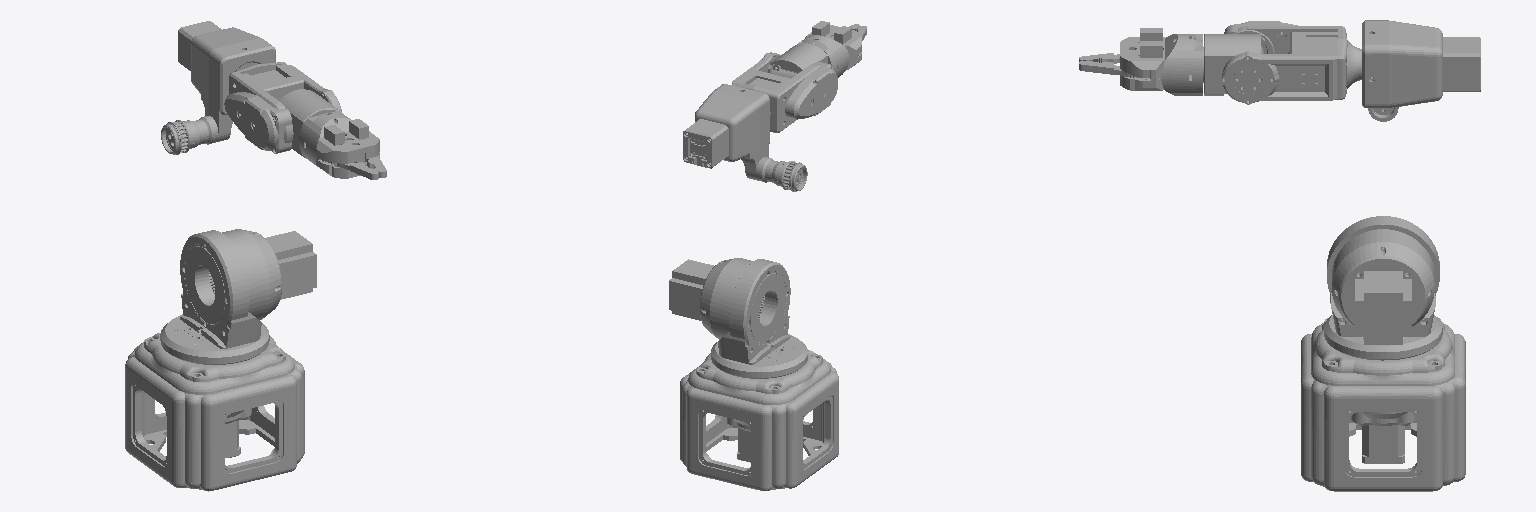
robot.urdf — kiri:
<?xml version="1.0" ?>
<!-- =================================================================================== -->
<!-- |    This document was autogenerated by xacro from [local-path]/kiri_ws/src/kiri_description/urdf/kiri.xacro | -->
<!-- |    EDITING THIS FILE BY HAND IS NOT RECOMMENDED                                 | -->
<!-- =================================================================================== -->
<robot name="kiri">
    <material name="silver">
        <color rgba="0.700 0.700 0.700 1.000" />
    </material>
    <link name="world" />
    <link name="base_link">
        <inertial>
            <origin rpy="0 0 0" xyz="-8.76585590771171e-09 4.625245772864268e-06 0.07417200620727467" />
            <mass value="0.9675774171477199" />
            <inertia ixx="0.003719" ixy="0.0" ixz="-0.0" iyy="0.00372" iyz="0.0" izz="0.004249" />
        </inertial>
        <visual>
            <origin rpy="0 0 0" xyz="0 0 0" />
            <geometry>
                <mesh filename="package://kiri_description/meshes/base_link.stl" scale="0.001 0.001 0.001" />
            </geometry>
            <material name="silver" />
        </visual>
        <collision>
            <origin rpy="0 0 0" xyz="0 0 0" />
            <geometry>
                <mesh filename="package://kiri_description/meshes/base_link.stl" scale="0.001 0.001 0.001" />
            </geometry>
        </collision>
    </link>
    <link name="link_1">
        <inertial>
            <origin rpy="0 0 0" xyz="0.027954074838879572 1.2774374489140266e-05 0.05220058358440388" />
            <mass value="5.26595321272139" />
            <inertia ixx="0.010161" ixy="-3e-06" ixz="-0.002233" iyy="0.013402" iyz="-4e-06" izz="0.010957" />
        </inertial>
        <visual>
            <origin rpy="0 0 0" xyz="-0.0 -0.0 -0.1325" />
            <geometry>
                <mesh filename="package://kiri_description/meshes/link_1_1.stl" scale="0.001 0.001 0.001" />
            </geometry>
            <material name="silver" />
        </visual>
        <collision>
            <origin rpy="0 0 0" xyz="-0.0 -0.0 -0.1325" />
            <geometry>
                <mesh filename="package://kiri_description/meshes/link_1_1.stl" scale="0.001 0.001 0.001" />
            </geometry>
        </collision>
    </link>
    <link name="link_2">
        <inertial>
            <origin rpy="0 0 0" xyz="-0.009366936381685993 6.552889280308437e-05 0.08684357826941763" />
            <mass value="4.755056928672819" />
            <inertia ixx="0.021197" ixy="4.7e-05" ixz="0.000291" iyy="0.02322" iyz="-2.2e-05" izz="0.006427" />
        </inertial>
        <visual>
            <origin rpy="0 0 0" xyz="0.01214 -3.7e-05 -0.201" />
            <geometry>
                <mesh filename="package://kiri_description/meshes/link_2_1.stl" scale="0.001 0.001 0.001" />
            </geometry>
            <material name="silver" />
        </visual>
        <collision>
            <origin rpy="0 0 0" xyz="0.01214 -3.7e-05 -0.201" />
            <geometry>
                <mesh filename="package://kiri_description/meshes/link_2_1.stl" scale="0.001 0.001 0.001" />
            </geometry>
        </collision>
    </link>
    <link name="link_3">
        <inertial>
            <origin rpy="0 0 0" xyz="0.03367813638240873 0.028072928800892603 0.04634723991153877" />
            <mass value="2.137433390159692" />
            <inertia ixx="0.003913" ixy="-0.000494" ixz="-0.000816" iyy="0.003043" iyz="-0.000544" izz="0.003902" />
        </inertial>
        <visual>
            <origin rpy="0 0 0" xyz="0.01214 -3.7e-05 -0.381" />
            <geometry>
                <mesh filename="package://kiri_description/meshes/link_3_1.stl" scale="0.001 0.001 0.001" />
            </geometry>
            <material name="silver" />
        </visual>
        <collision>
            <origin rpy="0 0 0" xyz="0.01214 -3.7e-05 -0.381" />
            <geometry>
                <mesh filename="package://kiri_description/meshes/link_3_1.stl" scale="0.001 0.001 0.001" />
            </geometry>
        </collision>
    </link>
    <link name="link_4">
        <inertial>
            <origin rpy="0 0 0" xyz="-0.005245756214767468 -0.056889563309725236 -5.6206564455152375e-05" />
            <mass value="1.9217220636356325" />
            <inertia ixx="0.002413" ixy="-0.0003" ixz="2e-06" iyy="0.001547" iyz="2e-06" izz="0.003204" />
        </inertial>
        <visual>
            <origin rpy="0 0 0" xyz="-0.02986 0.018433 -0.43675" />
            <geometry>
                <mesh filename="package://kiri_description/meshes/link_4_1.stl" scale="0.001 0.001 0.001" />
            </geometry>
            <material name="silver" />
        </visual>
        <collision>
            <origin rpy="0 0 0" xyz="-0.02986 0.018433 -0.43675" />
            <geometry>
                <mesh filename="package://kiri_description/meshes/link_4_1.stl" scale="0.001 0.001 0.001" />
            </geometry>
        </collision>
    </link>
    <link name="link_5">
        <inertial>
            <origin rpy="0 0 0" xyz="-0.02975423901507546 -0.017700782594158415 0.001500343163774176" />
            <mass value="1.2304142348959926" />
            <inertia ixx="0.000652" ixy="1.7e-05" ixz="-2e-06" iyy="0.000572" iyz="-2.5e-05" izz="0.000763" />
        </inertial>
        <visual>
            <origin rpy="0 0 0" xyz="-0.059857 0.131028 -0.436864" />
            <geometry>
                <mesh filename="package://kiri_description/meshes/link_5_1.stl" scale="0.001 0.001 0.001" />
            </geometry>
            <material name="silver" />
        </visual>
        <collision>
            <origin rpy="0 0 0" xyz="-0.059857 0.131028 -0.436864" />
            <geometry>
                <mesh filename="package://kiri_description/meshes/link_5_1.stl" scale="0.001 0.001 0.001" />
            </geometry>
        </collision>
    </link>
    <link name="link_6">
        <inertial>
            <origin rpy="0 0 0" xyz="-1.1845311122249402e-07 -0.03229549388067854 0.0018281416085541013" />
            <mass value="1.142196425861989" />
            <inertia ixx="0.00069" ixy="-0.0" ixz="0.0" iyy="0.000536" iyz="2.4e-05" izz="0.00084" />
        </inertial>
        <visual>
            <origin rpy="0 0 0" xyz="-0.030903 0.183096 -0.43675" />
            <geometry>
                <mesh filename="package://kiri_description/meshes/link_6_1.stl" scale="0.001 0.001 0.001" />
            </geometry>
            <material name="silver" />
        </visual>
        <collision>
            <origin rpy="0 0 0" xyz="-0.030903 0.183096 -0.43675" />
            <geometry>
                <mesh filename="package://kiri_description/meshes/link_6_1.stl" scale="0.001 0.001 0.001" />
            </geometry>
        </collision>
    </link>
    <link name="link_7">
        <inertial>
            <origin rpy="0 0 0" xyz="-0.004921350215667475 -0.02368454863036701 -0.0017992160930257461" />
            <mass value="0.029227804912521096" />
            <inertia ixx="7e-06" ixy="-2e-06" ixz="0.0" iyy="1e-06" iyz="0.0" izz="8e-06" />
        </inertial>
        <visual>
            <origin rpy="0 0 0" xyz="-0.045903 0.245346 -0.439385" />
            <geometry>
                <mesh filename="package://kiri_description/meshes/link_7_1.stl" scale="0.001 0.001 0.001" />
            </geometry>
            <material name="silver" />
        </visual>
        <collision>
            <origin rpy="0 0 0" xyz="-0.045903 0.245346 -0.439385" />
            <geometry>
                <mesh filename="package://kiri_description/meshes/link_7_1.stl" scale="0.001 0.001 0.001" />
            </geometry>
        </collision>
    </link>
    <link name="link_8">
        <inertial>
            <origin rpy="0 0 0" xyz="0.004921201365448383 -0.02368448005660495 -0.0017992095033099176" />
            <mass value="0.029227870763449907" />
            <inertia ixx="7e-06" ixy="2e-06" ixz="-0.0" iyy="1e-06" iyz="0.0" izz="8e-06" />
        </inertial>
        <visual>
            <origin rpy="0 0 0" xyz="-0.015903 0.245346 -0.439385" />
            <geometry>
                <mesh filename="package://kiri_description/meshes/link_8_1.stl" scale="0.001 0.001 0.001" />
            </geometry>
            <material name="silver" />
        </visual>
        <collision>
            <origin rpy="0 0 0" xyz="-0.015903 0.245346 -0.439385" />
            <geometry>
                <mesh filename="package://kiri_description/meshes/link_8_1.stl" scale="0.001 0.001 0.001" />
            </geometry>
        </collision>
    </link>
    <joint name="base_joint" type="fixed">
        <parent link="world" />
        <child link="base_link" />
        <origin rpy="0 0 0" xyz="0.0 0.0 0.0" />
    </joint>
    <joint name="joint_1" type="revolute">
        <origin rpy="0 0 0" xyz="0.0 0.0 0.1325" />
        <parent link="base_link" />
        <child link="link_1" />
        <axis xyz="0.0 0.0 1.0" />
        <limit effort="100" lower="0.0" upper="3.141593" velocity="100" />
    </joint>
    <joint name="joint_2" type="revolute">
        <origin rpy="0 0 0" xyz="-0.01214 3.7e-05 0.0685" />
        <parent link="link_1" />
        <child link="link_2" />
        <axis xyz="1.0 -0.0 -0.0" />
        <limit effort="100" lower="-1.570796" upper="1.570796" velocity="100" />
    </joint>
    <joint name="joint_3" type="revolute">
        <origin rpy="0 0 0" xyz="0.0 0.0 0.18" />
        <parent link="link_2" />
        <child link="link_3" />
        <axis xyz="-1.0 0.0 -0.0" />
        <limit effort="100" lower="-1.396263" upper="1.570796" velocity="100" />
    </joint>
    <joint name="joint_4" type="revolute">
        <origin rpy="0 0 0" xyz="0.042 -0.01847 0.05575" />
        <parent link="link_3" />
        <child link="link_4" />
        <axis xyz="0.0 -1.0 -0.0" />
        <limit effort="100" lower="-1.570796" upper="1.570796" velocity="100" />
    </joint>
    <joint name="joint_5" type="revolute">
        <origin rpy="0 0 0" xyz="0.029997 -0.112595 0.000114" />
        <parent link="link_4" />
        <child link="link_5" />
        <axis xyz="-1.0 0.0 -0.0" />
        <limit effort="100" lower="-1.745329" upper="1.745329" velocity="100" />
    </joint>
    <joint name="joint_6" type="revolute">
        <origin rpy="0 0 0" xyz="-0.028954 -0.052068 -0.000114" />
        <parent link="link_5" />
        <child link="link_6" />
        <axis xyz="-0.0 -1.0 0.0" />
        <limit effort="100" lower="-1.570796" upper="1.570796" velocity="100" />
    </joint>
    <joint name="joint_7" type="revolute">
        <origin rpy="0 0 0" xyz="0.015 -0.06225 0.002635" />
        <parent link="link_6" />
        <child link="link_7" />
        <axis xyz="-0.0 -0.0 1.0" />
        <limit effort="100" lower="0.0" upper="1.570796" velocity="100" />
    </joint>
    <joint name="joint_8" type="revolute">
        <origin rpy="0 0 0" xyz="-0.015 -0.06225 0.002635" />
        <parent link="link_6" />
        <child link="link_8" />
        <axis xyz="0.0 -0.0 1.0" />
        <limit effort="100" lower="-1.570796" upper="0.0" velocity="100" />
    </joint>
    <transmission name="joint_1_tran">
        <type>transmission_interface/SimpleTransmission</type>
        <joint name="joint_1">
            <hardwareInterface>hardware_interface/PositionJointInterface</hardwareInterface>
        </joint>
        <actuator name="joint_1_motor">
            <hardwareInterface>hardware_interface/PositionJointInterface</hardwareInterface>
            <mechanicalReduction>1</mechanicalReduction>
        </actuator>
    </transmission>
    <transmission name="joint_2_tran">
        <type>transmission_interface/SimpleTransmission</type>
        <joint name="joint_2">
            <hardwareInterface>hardware_interface/PositionJointInterface</hardwareInterface>
        </joint>
        <actuator name="joint_2_motor">
            <hardwareInterface>hardware_interface/PositionJointInterface</hardwareInterface>
            <mechanicalReduction>1</mechanicalReduction>
        </actuator>
    </transmission>
    <transmission name="joint_3_tran">
        <type>transmission_interface/SimpleTransmission</type>
        <joint name="joint_3">
            <hardwareInterface>hardware_interface/PositionJointInterface</hardwareInterface>
        </joint>
        <actuator name="joint_3_motor">
            <hardwareInterface>hardware_interface/PositionJointInterface</hardwareInterface>
            <mechanicalReduction>1</mechanicalReduction>
        </actuator>
    </transmission>
    <transmission name="joint_4_tran">
        <type>transmission_interface/SimpleTransmission</type>
        <joint name="joint_4">
            <hardwareInterface>hardware_interface/PositionJointInterface</hardwareInterface>
        </joint>
        <actuator name="joint_4_motor">
            <hardwareInterface>hardware_interface/PositionJointInterface</hardwareInterface>
            <mechanicalReduction>1</mechanicalReduction>
        </actuator>
    </transmission>
    <transmission name="joint_5_tran">
        <type>transmission_interface/SimpleTransmission</type>
        <joint name="joint_5">
            <hardwareInterface>hardware_interface/PositionJointInterface</hardwareInterface>
        </joint>
        <actuator name="joint_5_motor">
            <hardwareInterface>hardware_interface/PositionJointInterface</hardwareInterface>
            <mechanicalReduction>1</mechanicalReduction>
        </actuator>
    </transmission>
    <transmission name="joint_6_tran">
        <type>transmission_interface/SimpleTransmission</type>
        <joint name="joint_6">
            <hardwareInterface>hardware_interface/PositionJointInterface</hardwareInterface>
        </joint>
        <actuator name="joint_6_motor">
            <hardwareInterface>hardware_interface/PositionJointInterface</hardwareInterface>
            <mechanicalReduction>1</mechanicalReduction>
        </actuator>
    </transmission>
    <transmission name="joint_7_tran">
        <type>transmission_interface/SimpleTransmission</type>
        <joint name="joint_7">
            <hardwareInterface>hardware_interface/PositionJointInterface</hardwareInterface>
        </joint>
        <actuator name="joint_7_motor">
            <hardwareInterface>hardware_interface/PositionJointInterface</hardwareInterface>
            <mechanicalReduction>1</mechanicalReduction>
        </actuator>
    </transmission>
    <transmission name="joint_8_tran">
        <type>transmission_interface/SimpleTransmission</type>
        <joint name="joint_8">
            <hardwareInterface>hardware_interface/PositionJointInterface</hardwareInterface>
        </joint>
        <actuator name="joint_8_motor">
            <hardwareInterface>hardware_interface/PositionJointInterface</hardwareInterface>
            <mechanicalReduction>1</mechanicalReduction>
        </actuator>
    </transmission>
    <gazebo>
        <plugin filename="libgazebo_ros_control.so" name="control">
            <robotNamespace>/</robotNamespace>
        </plugin>
        <plugin name="gazebo_ros_control">
            <robotNamespace>/</robotNamespace>
        </plugin>
    </gazebo>
    <gazebo reference="link_1">
        <selfCollide>true</selfCollide>
    </gazebo>
    <gazebo reference="link_2">
        <selfCollide>true</selfCollide>
    </gazebo>
    <gazebo reference="link_3">
        <selfCollide>true</selfCollide>
    </gazebo>
    <gazebo reference="link_4">
        <selfCollide>true</selfCollide>
    </gazebo>
    <gazebo reference="link_5">
        <selfCollide>true</selfCollide>
    </gazebo>
    <gazebo reference="link_6">
        <selfCollide>true</selfCollide>
    </gazebo>
    <gazebo reference="link_7">
        <selfCollide>false</selfCollide>
    </gazebo>
    <gazebo reference="link_8">
        <selfCollide>false</selfCollide>
    </gazebo>
</robot>

--- Facts derived from the render (not from the file) ---
The picture shows the robot from 3 angles, left to right: view 1: azimuth 30°, elevation 25°; view 2: azimuth 150°, elevation 25°; view 3: azimuth 270°, elevation 25°; orthographic projection.
Model kiri with 10 links and 9 joints (8 revolute, 1 fixed), rooted at world, posed all joints at 0.
Visible links, largest first — view 1: base_link, link_1, link_3, link_4, link_6, link_5; view 2: base_link, link_1, link_3, link_4, link_6, link_5; view 3: base_link, link_1, link_3, link_4, link_6, link_5.
Boxes of the visible links, <box> form: base_link: <box>125,333,304,491</box>; link_1: <box>160,229,316,364</box>; link_3: <box>161,21,275,154</box>; link_4: <box>224,62,341,153</box>; link_6: <box>299,111,379,178</box>; link_5: <box>279,89,341,157</box>; base_link: <box>680,350,838,490</box>; link_1: <box>669,258,807,378</box>; link_3: <box>683,84,807,191</box>; link_4: <box>732,52,837,132</box>; link_6: <box>798,21,861,77</box>; link_5: <box>767,43,827,78</box>; base_link: <box>1301,318,1465,491</box>; link_1: <box>1324,216,1442,360</box>; link_3: <box>1362,20,1480,121</box>; link_4: <box>1222,21,1361,104</box>; link_6: <box>1120,28,1202,95</box>; link_5: <box>1203,34,1264,95</box>.
Size in the robot's own frame: 0.1884 by 0.3906 by 0.4708 metres.
Meshes: 9 distinct files referenced, 8 mesh visuals loaded (8 binary STL); not drawn: 1 (reference not matched to a file when rendering).